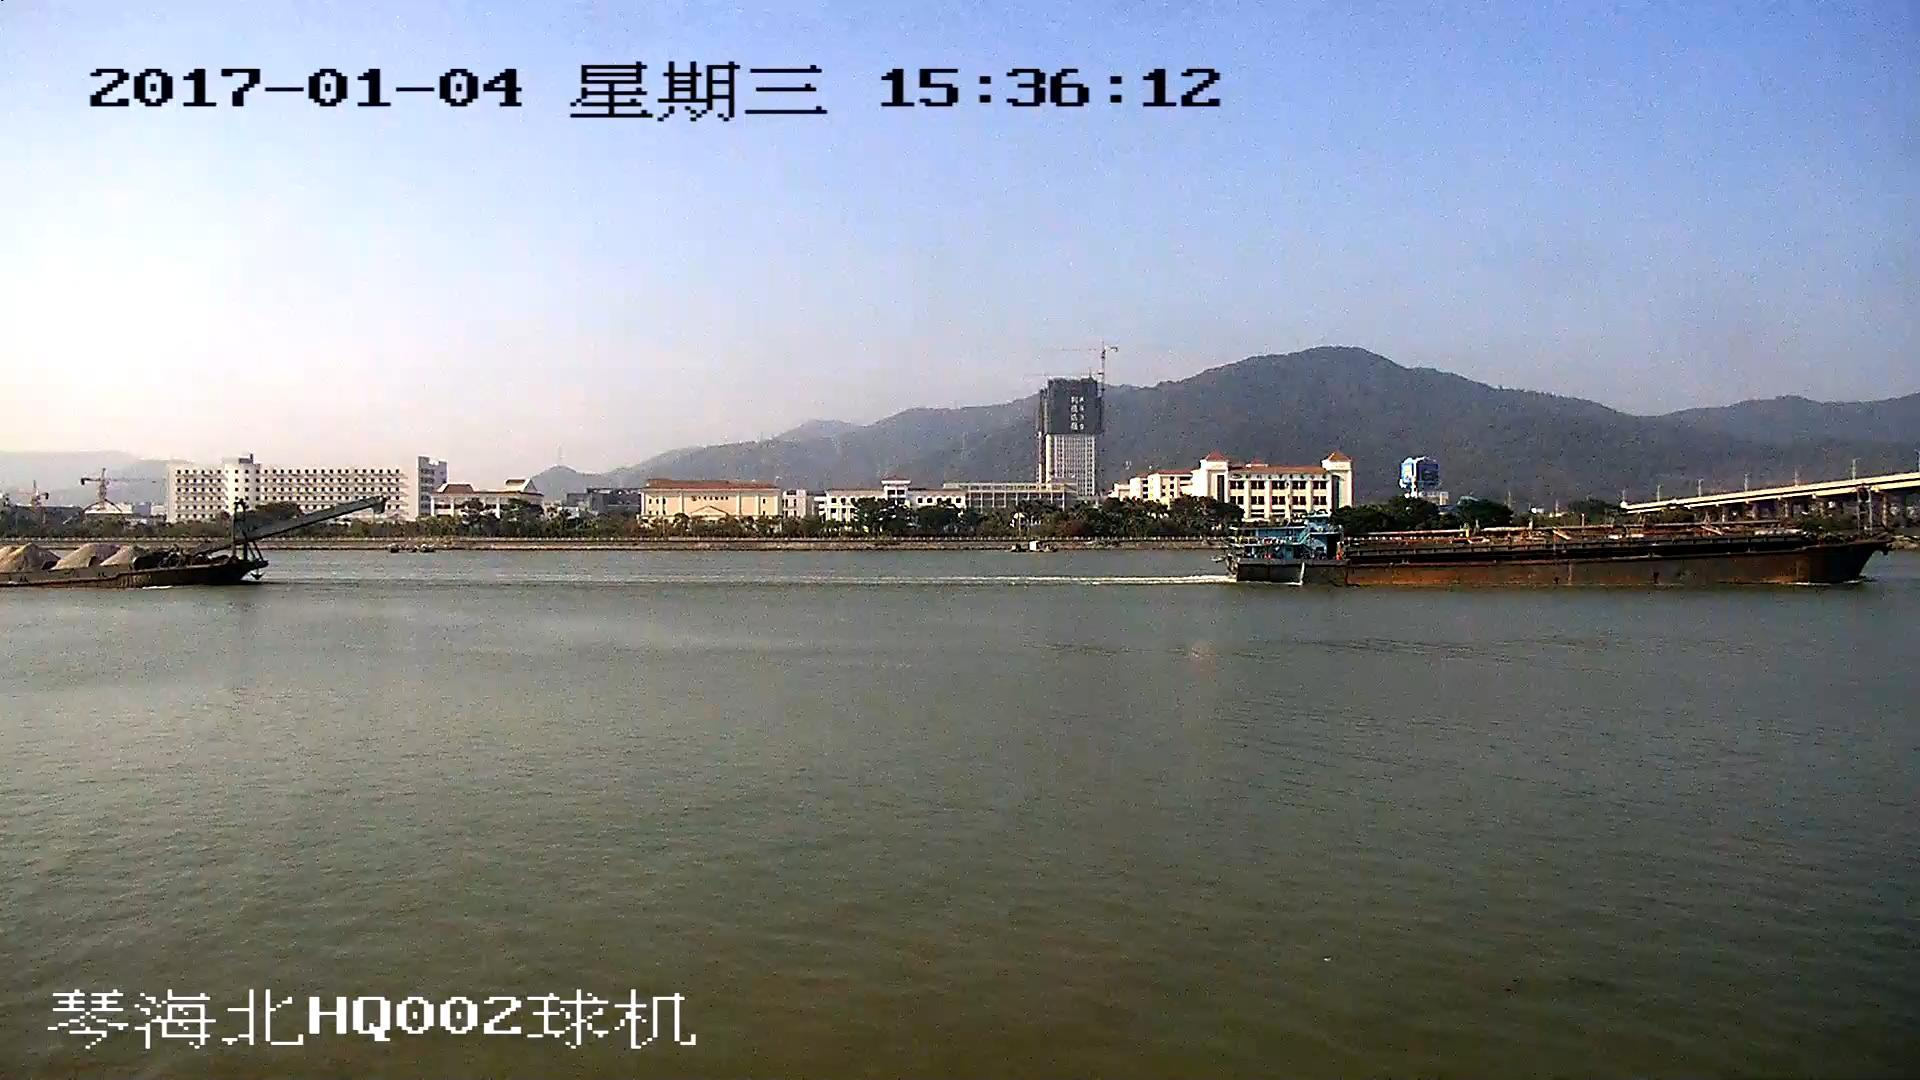Ship: (1228, 517, 1892, 592), (3, 495, 382, 589)
